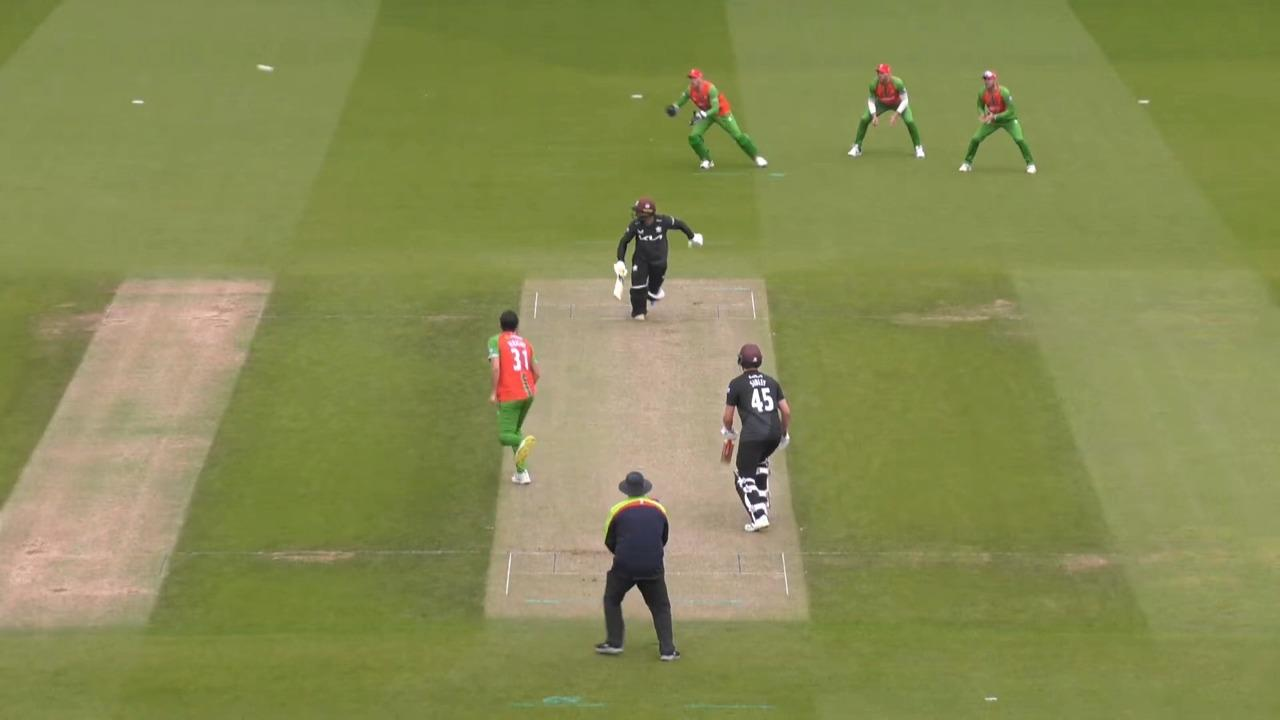sports ball: (255, 63, 274, 72)
